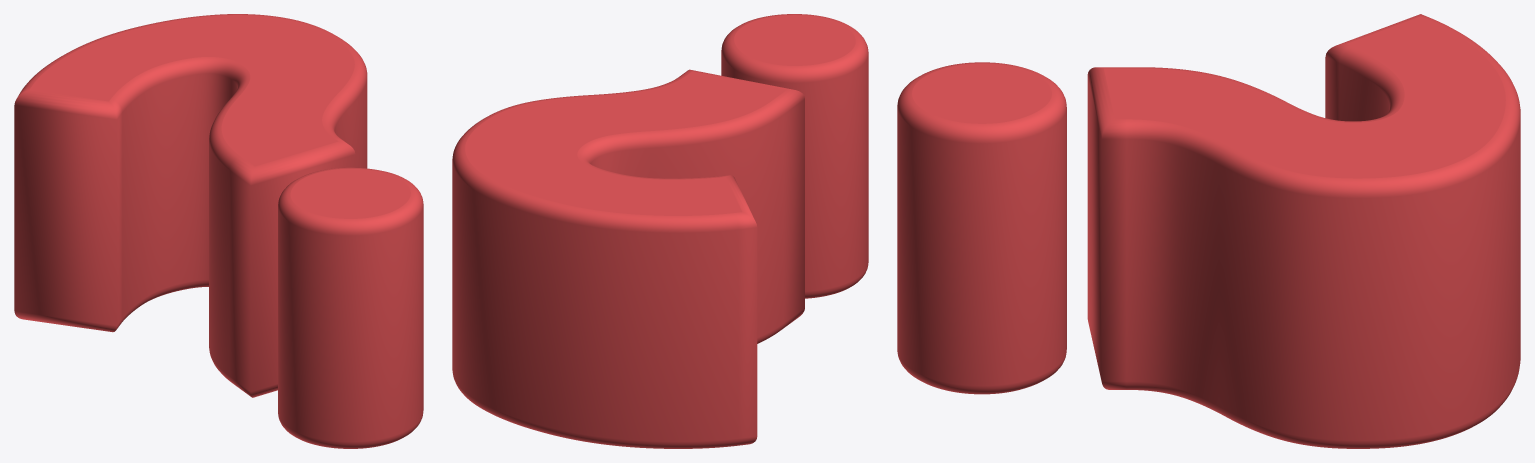
File: MathSymbol_QuestionMark.glb
3 views of the same model, side by side, from view 1: azimuth 30°, elevation 25°; view 2: azimuth 150°, elevation 25°; view 3: azimuth 270°, elevation 25° (orthographic). The views are drawn at different scales.
Parts seen in each view (by area): view 1: Text; view 2: Text; view 3: Text.
Boxes of the visible parts, box(x1,y1,x2,y2) form: Text: box(14, 14, 423, 448); Text: box(452, 14, 868, 448); Text: box(897, 14, 1520, 448).
Size of the model in its own units: 0.2819 by 0.2 by 0.4199.
